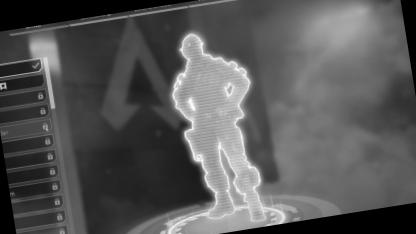Target: (160, 23, 275, 204)
